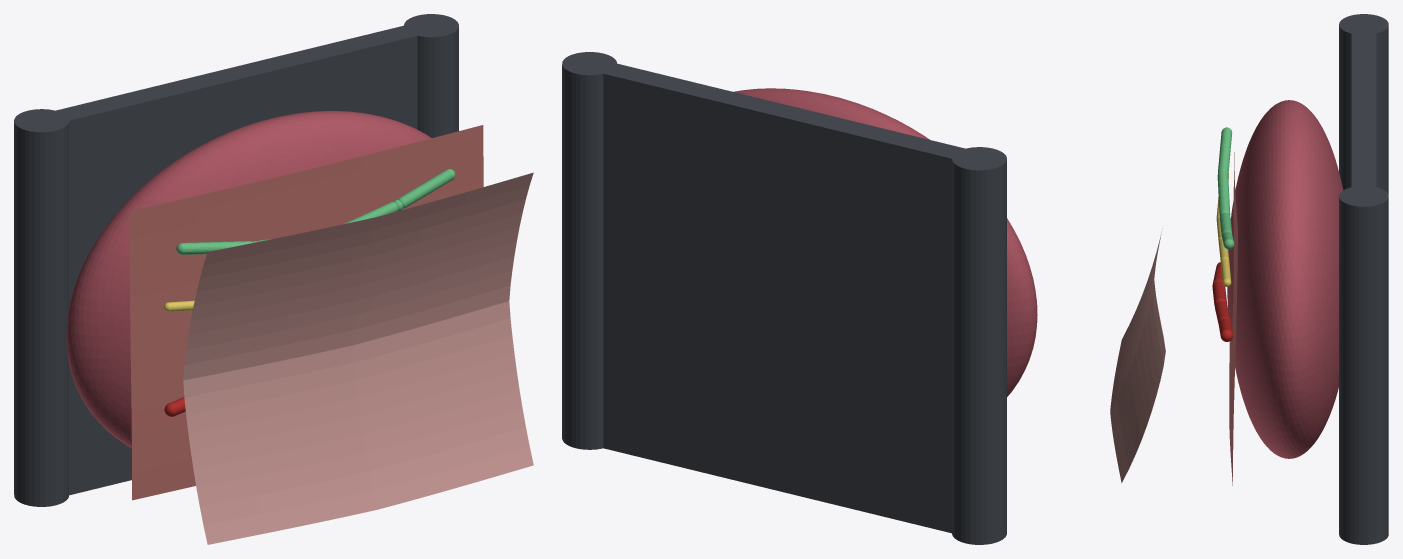
Rendered from dranmar_safeplane_tissue_complete.glb.
3 renders of one model, left to right at view 1: azimuth 30°, elevation 25°; view 2: azimuth 150°, elevation 25°; view 3: azimuth 270°, elevation 25°, orthographic. The views are drawn at different scales.
Parts seen in each view (by area): view 1: SuperficialFlap, Fixture, TargetBed, ProtectedOrgan, DuctRight, DuctLeft; view 2: Fixture, ProtectedOrgan; view 3: ProtectedOrgan, Fixture, SuperficialFlap, TargetBed, DuctLeft, VesselRight, VesselLeft, NerveRight, DuctRight.
Boxes of the visible parts, box(x1,y1,x2,y2) form: SuperficialFlap: box(183, 172, 533, 544); Fixture: box(14, 14, 458, 506); TargetBed: box(129, 125, 483, 500); ProtectedOrgan: box(66, 111, 431, 448); DuctRight: box(344, 169, 455, 223); DuctLeft: box(176, 239, 271, 254); Fixture: box(562, 52, 1006, 544); ProtectedOrgan: box(733, 88, 1037, 396); ProtectedOrgan: box(1227, 100, 1342, 458); Fixture: box(1339, 14, 1388, 544); SuperficialFlap: box(1110, 229, 1165, 482); TargetBed: box(1229, 152, 1237, 485); DuctLeft: box(1217, 127, 1232, 216); VesselRight: box(1215, 301, 1233, 341); VesselLeft: box(1212, 262, 1226, 306); NerveRight: box(1218, 239, 1231, 286); DuctRight: box(1219, 213, 1234, 249).
Size of the model in its own units: 0.22 by 0.18 by 0.1344.
